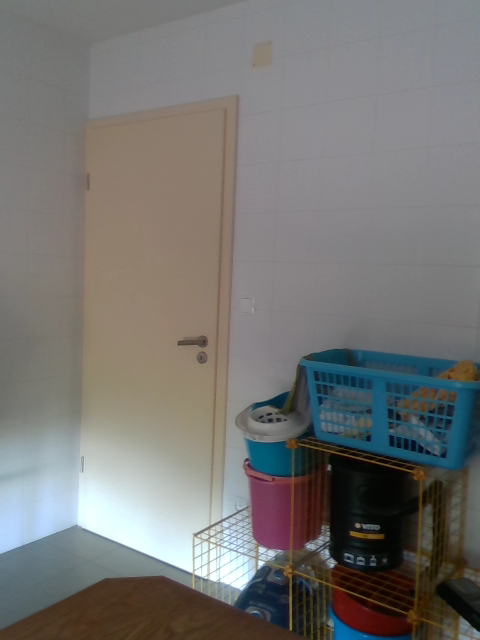closed: (72, 100, 238, 578)
